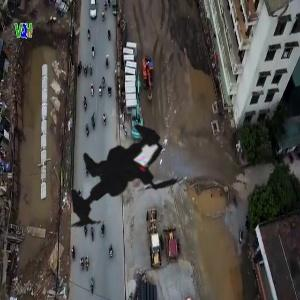drone: (30, 91, 219, 280)
